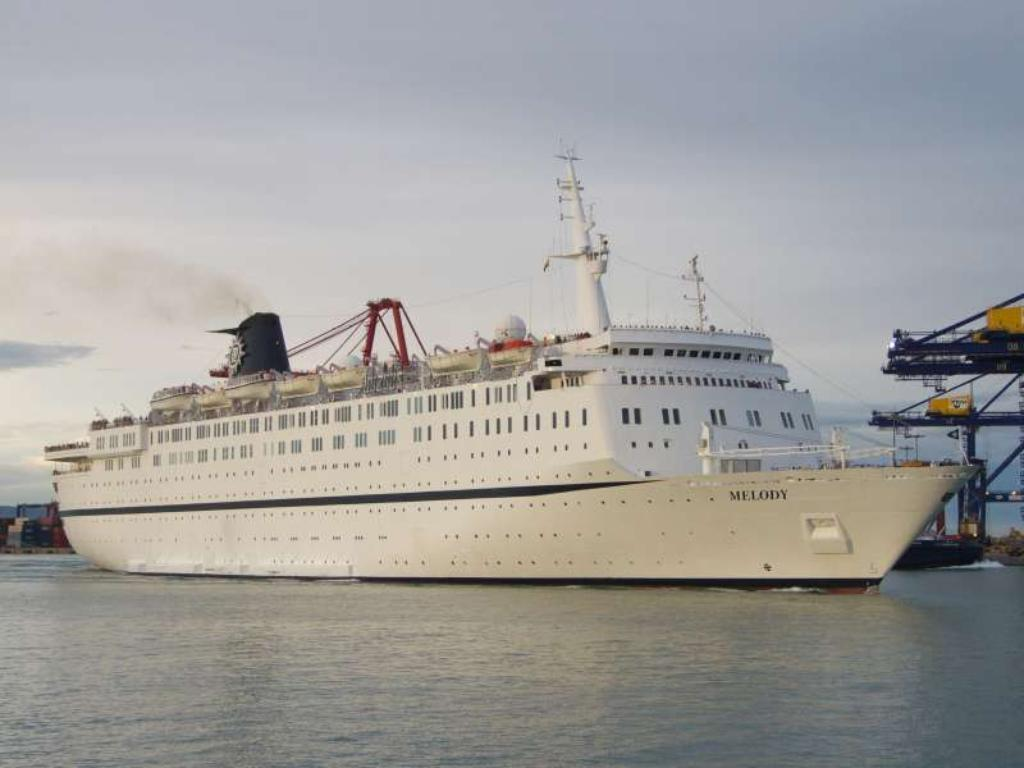PassengerShip: (52, 142, 982, 602)
